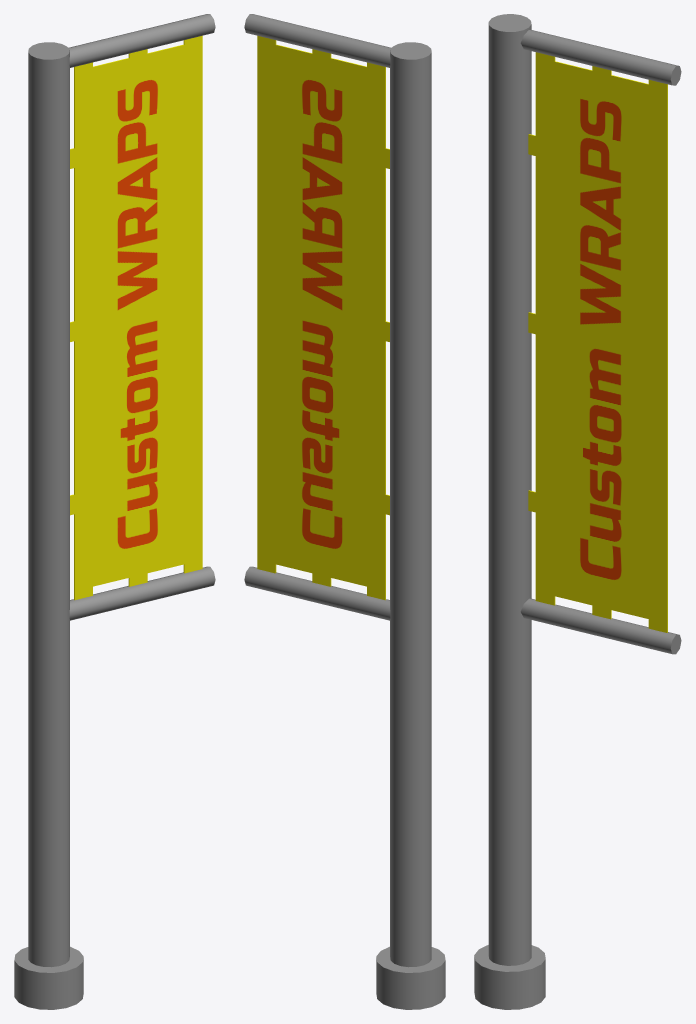
File: Tall-flag_C.fbx
The picture shows the model from 3 angles, left to right: view 1: azimuth 30°, elevation 25°; view 2: azimuth 150°, elevation 25°; view 3: azimuth 330°, elevation 25°; orthographic projection. The views are drawn at different scales.
Visible parts, largest first — view 1: Tall-flag_C_Cloth, Tall-flag_C; view 2: Tall-flag_C_Cloth, Tall-flag_C; view 3: Tall-flag_C_Cloth, Tall-flag_C.
Boxes of the visible parts, <box> form: Tall-flag_C_Cloth: <box>70,35,202,600</box>; Tall-flag_C: <box>14,14,215,1009</box>; Tall-flag_C_Cloth: <box>257,35,389,600</box>; Tall-flag_C: <box>244,14,445,1009</box>; Tall-flag_C_Cloth: <box>528,52,667,632</box>; Tall-flag_C: <box>474,14,681,1009</box>.
Size of the model in its own units: 95.54 by 450 by 30.18.
